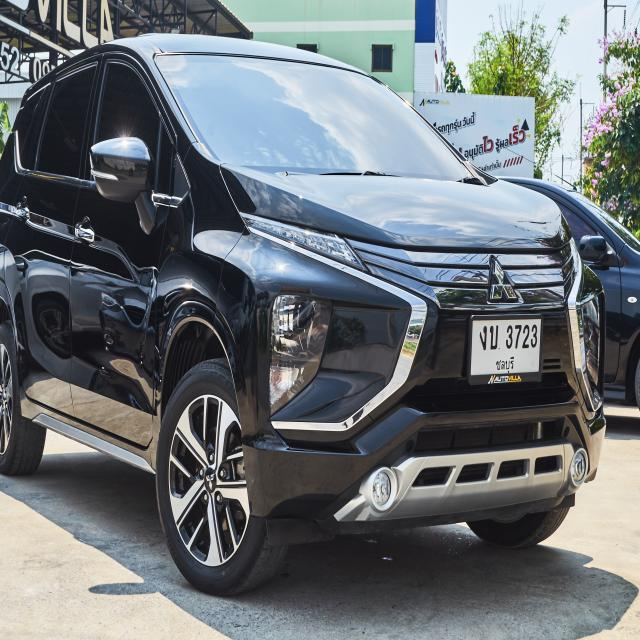license_plate: (464, 311, 547, 392)
